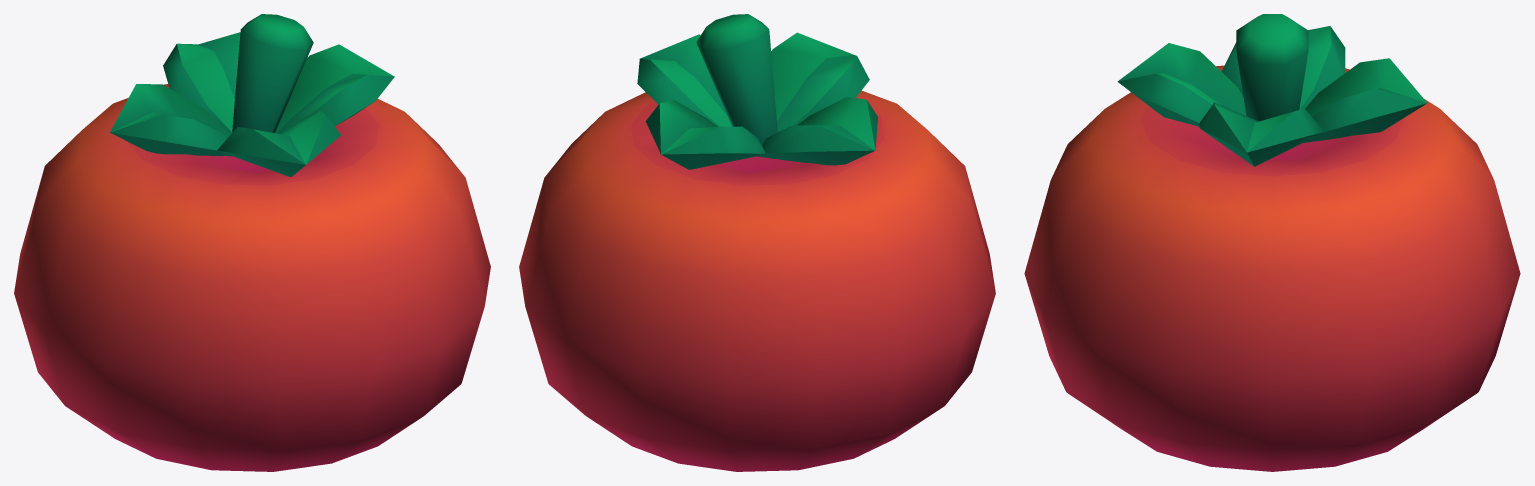
The model's file is re-food_ingredient_tomato.glb.
The picture shows the model from 3 angles, left to right: view 1: azimuth 30°, elevation 25°; view 2: azimuth 150°, elevation 25°; view 3: azimuth 270°, elevation 25°; orthographic projection. The views are drawn at different scales.
Visible parts, largest first — view 1: food_ingredient_tomato; view 2: food_ingredient_tomato; view 3: food_ingredient_tomato.
Part boxes in pixels (x1=…): food_ingredient_tomato: x1=14, y1=14, x2=490, y2=471; food_ingredient_tomato: x1=519, y1=14, x2=995, y2=471; food_ingredient_tomato: x1=1024, y1=14, x2=1520, y2=471.
Size of the model in its own units: 0.75 by 0.7 by 0.75.
1 material, 1 textured.
